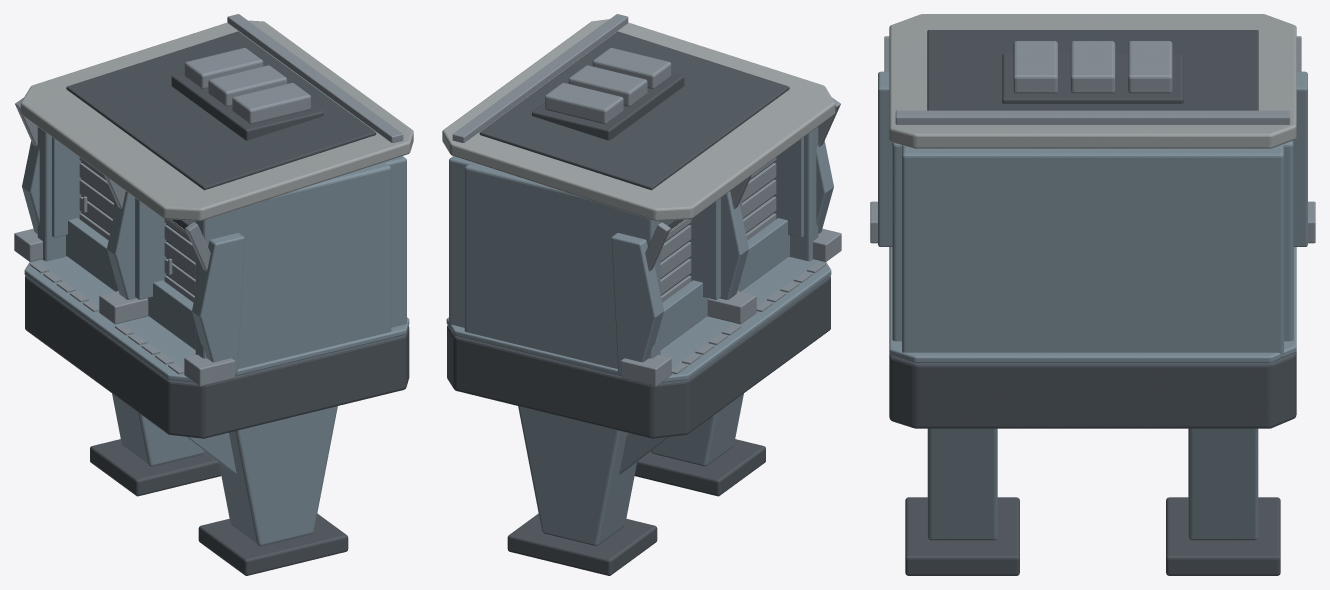
The model's file is NA_ServiceFacade_A_LOD0.fbx.
3 renders of one model, left to right at view 1: azimuth 30°, elevation 25°; view 2: azimuth 150°, elevation 25°; view 3: azimuth 270°, elevation 25°, orthographic. The views are drawn at different scales.
Visible parts, largest first — view 1: NA_ServiceFacade_A_LOD0; view 2: NA_ServiceFacade_A_LOD0; view 3: NA_ServiceFacade_A_LOD0.
Part boxes in pixels (x1,y1,x2,y2): NA_ServiceFacade_A_LOD0: (14,14,413,575); NA_ServiceFacade_A_LOD0: (442,14,841,575); NA_ServiceFacade_A_LOD0: (870,14,1315,575).
Bounding box in the file's own units: 10.76 × 17.52 × 14.
